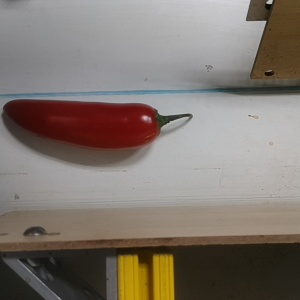Cut Point: (140, 102, 167, 143)
